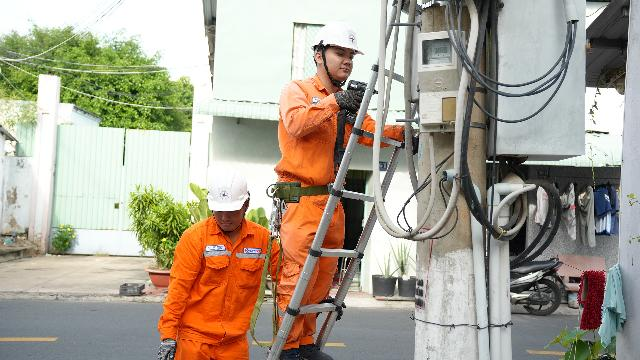gloves: (327, 86, 368, 123), (146, 332, 189, 360), (399, 129, 423, 152)
harness: (265, 171, 350, 205)
helmet: (189, 158, 252, 220), (298, 22, 370, 61)
shoes: (299, 338, 340, 360), (263, 344, 305, 360)
